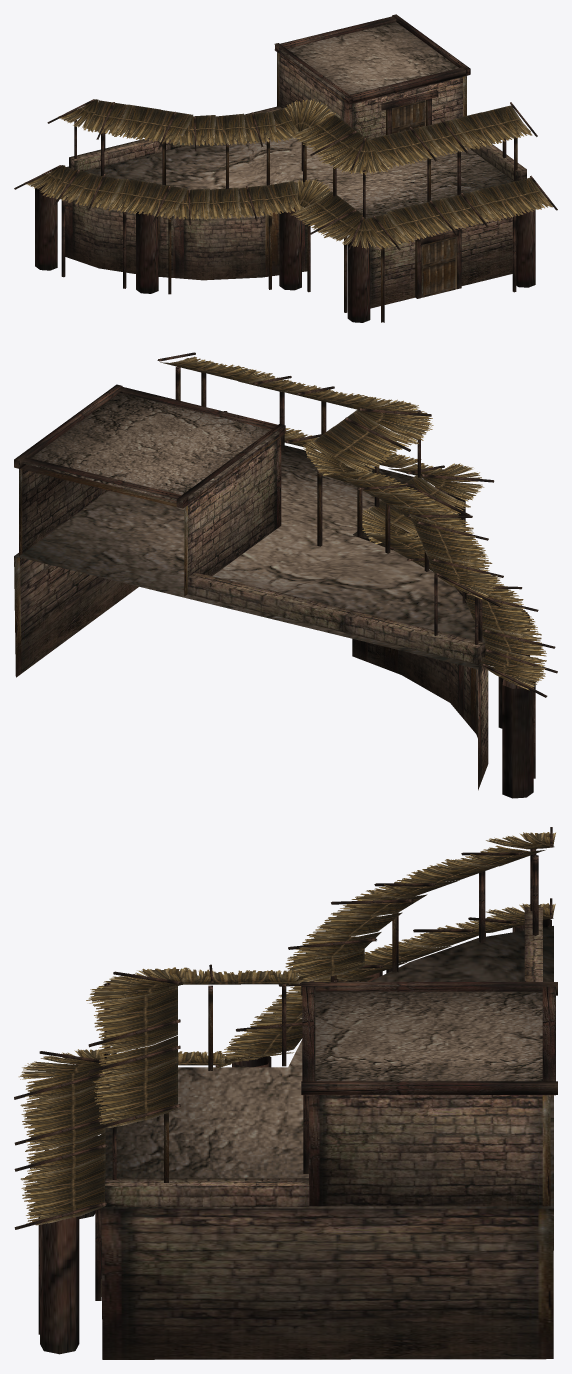
Rendered from building05.fbx.
3 views of the same model, one above another, from view 1: azimuth 30°, elevation 25°; view 2: azimuth 150°, elevation 25°; view 3: azimuth 270°, elevation 25° (orthographic). The views are drawn at different scales.
Parts seen in each view (by area): view 1: building05; view 2: building05; view 3: building05.
Boxes of the visible parts, x1,y1,x2,y2 form: building05: (14,14,557,322); building05: (14,352,557,798); building05: (14,827,557,1359).
Bounding box in the file's own units: 1116 × 440 × 782.
